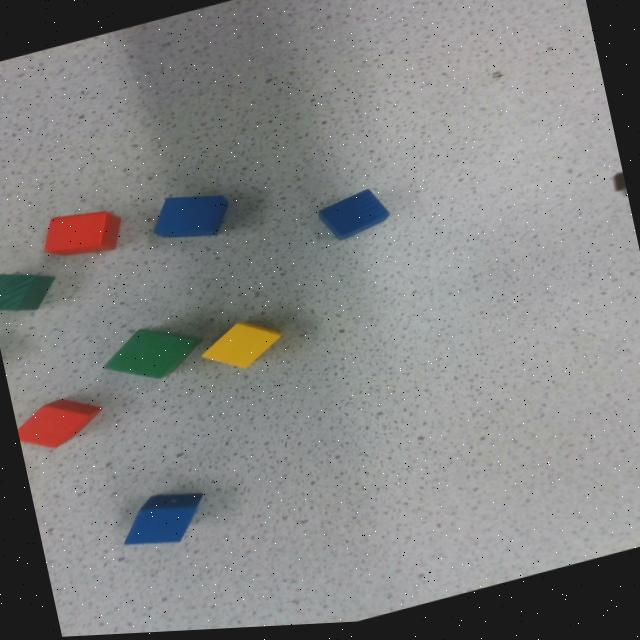blue_cube: (316, 189, 389, 247), (122, 495, 201, 545), (151, 197, 227, 240)
green_cube: (102, 323, 199, 386), (0, 274, 53, 311)
red_cube: (10, 379, 103, 464), (40, 210, 122, 258)
yellow_cube: (200, 308, 281, 387)
